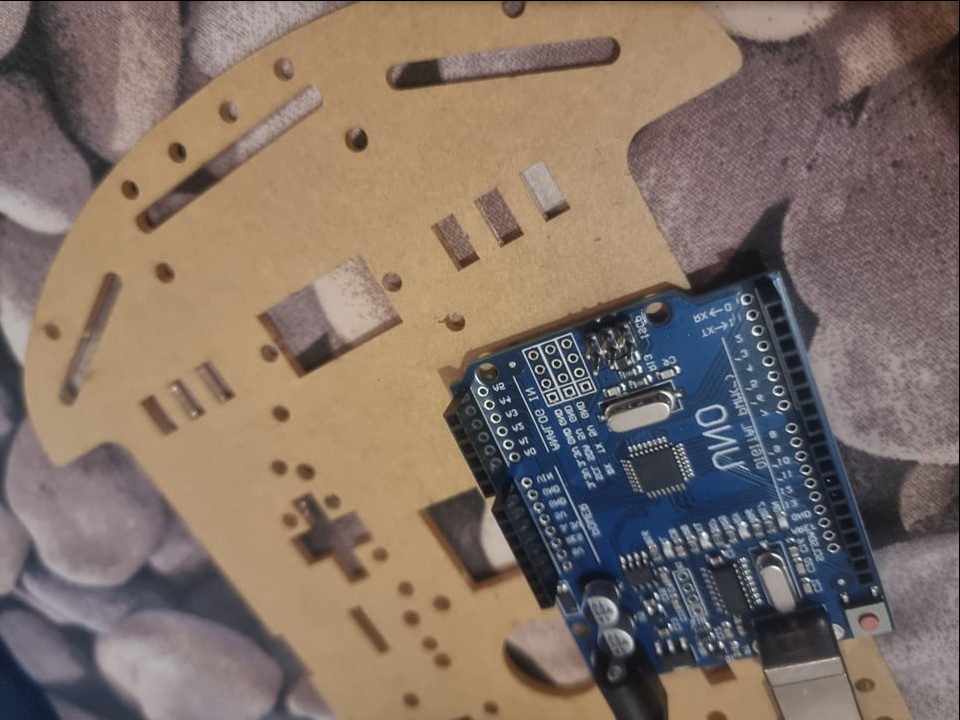UNO R3: (444, 265, 893, 719)
